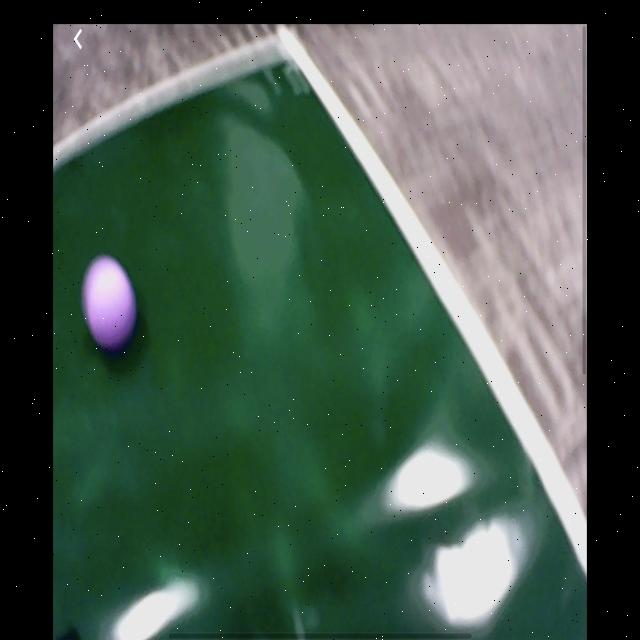ball: (81, 253, 139, 353)
